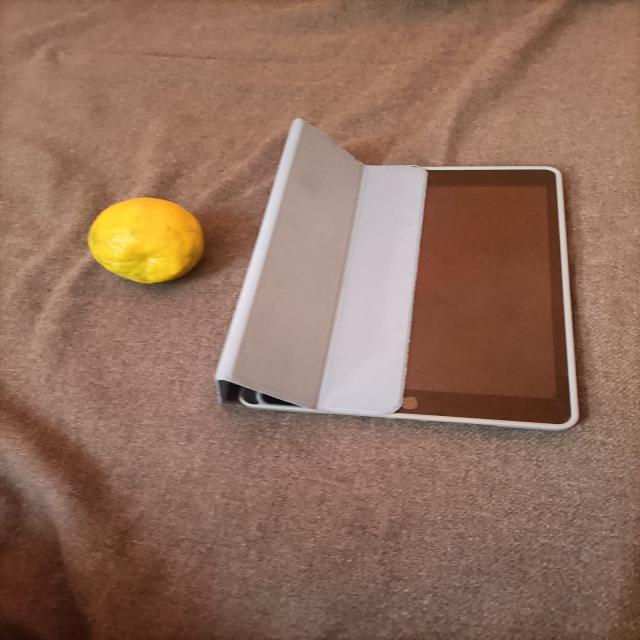orange: (70, 191, 224, 296)
tablet: (202, 107, 580, 451)
